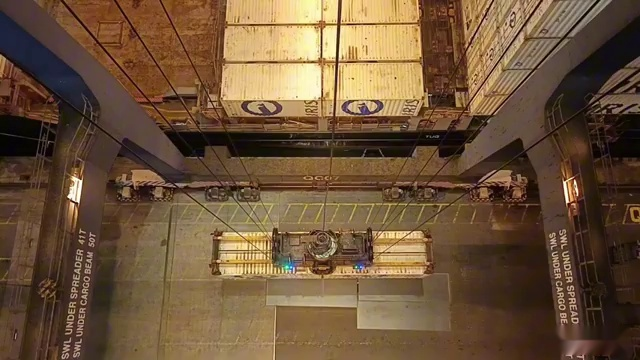container: (202, 224, 438, 287), (219, 62, 427, 120), (221, 23, 425, 61), (222, 6, 423, 40), (222, 0, 424, 23), (222, 0, 421, 20), (455, 3, 640, 24), (209, 0, 435, 17)
guide_mark: (111, 204, 544, 222), (66, 350, 560, 360)
spreader: (201, 222, 446, 286)
target_slot: (198, 223, 445, 290)
